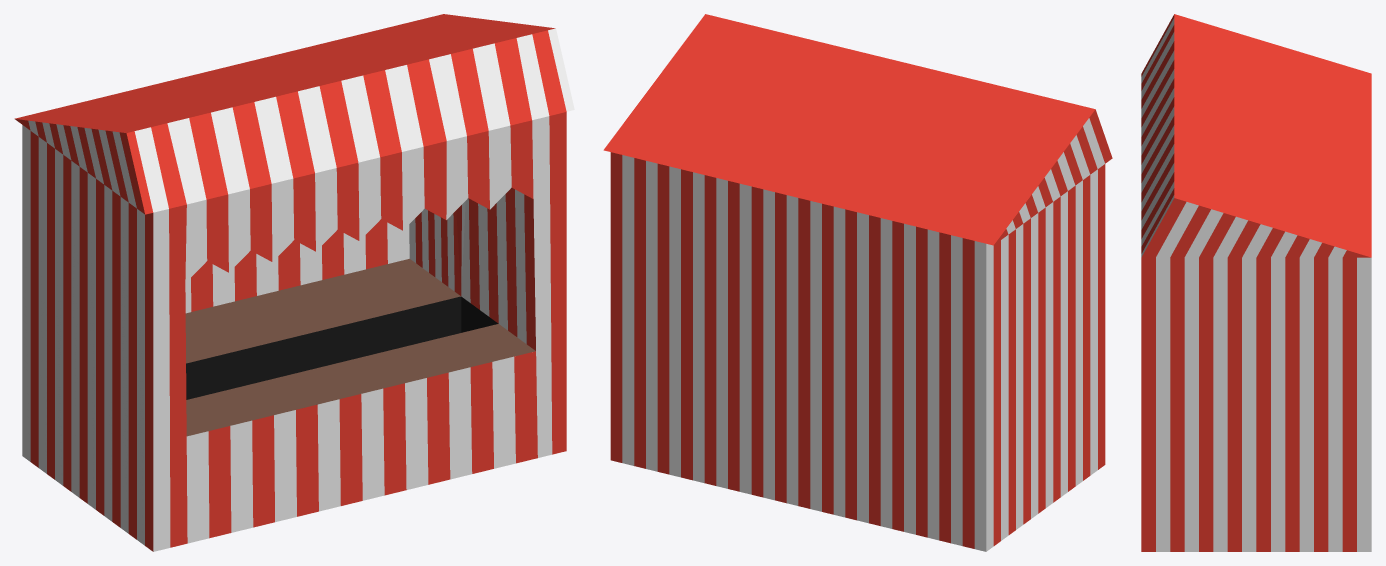
The model's file is kiosk-booth.glb.
3 views of the same model, side by side, from view 1: azimuth 30°, elevation 25°; view 2: azimuth 150°, elevation 25°; view 3: azimuth 270°, elevation 25° (orthographic). The views are drawn at different scales.
Parts seen in each view (by area): view 1: group762351938; view 2: group762351938; view 3: group762351938.
Part boxes in pixels (left/top/right/bottom): group762351938: left=14, top=14, right=574, bottom=551; group762351938: left=603, top=14, right=1112, bottom=551; group762351938: left=1141, top=14, right=1371, bottom=551.
Size of the model in its own units: 3.4 by 3.08 by 1.8.
